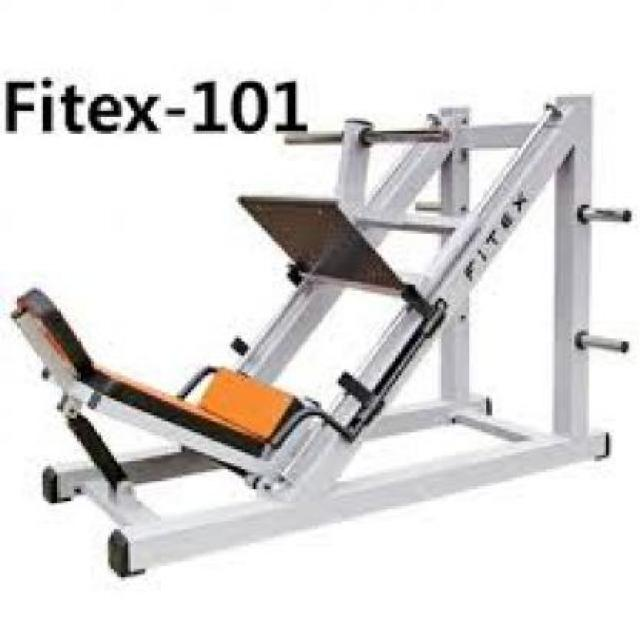leg press: (11, 50, 634, 588)
